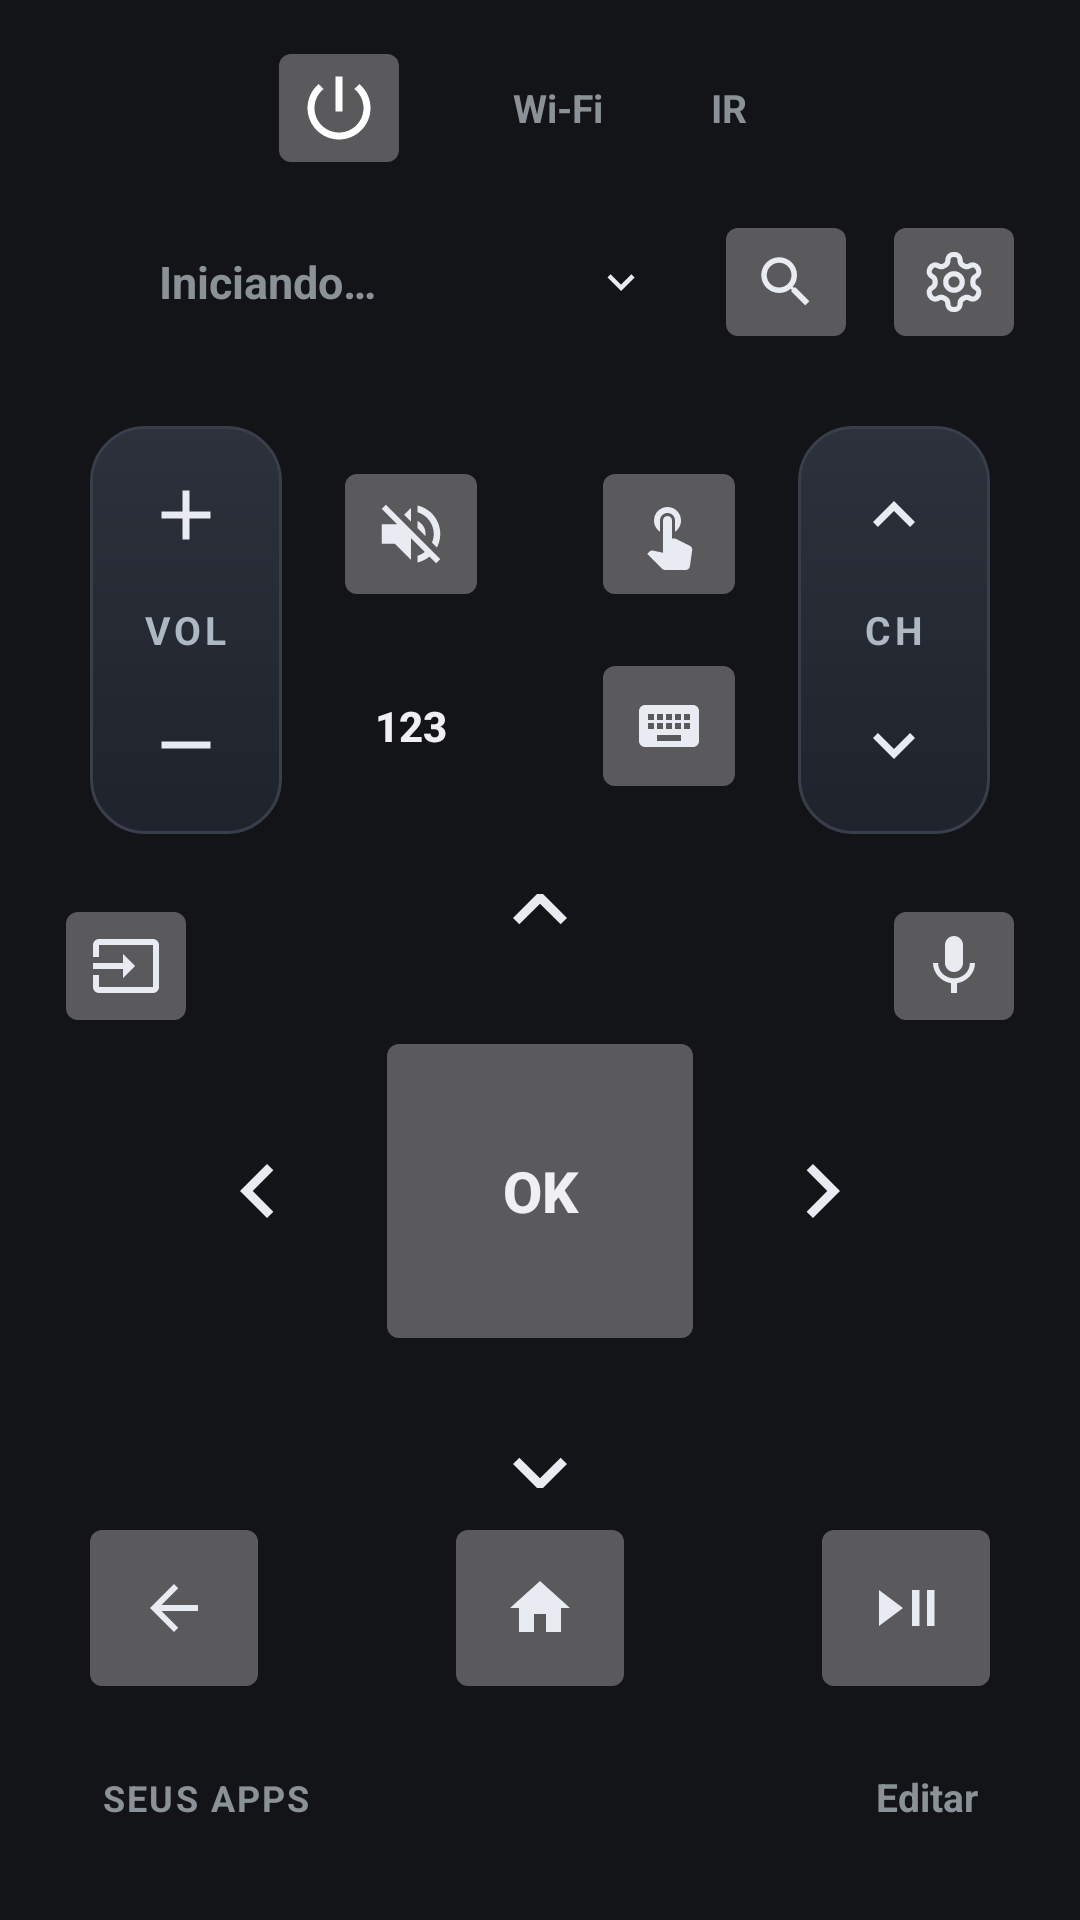

Screen size 1080*1920. Icon name, then its center in pixels as point (x, y):
Aumentar volume: point (186, 514)
Canal anterior: point (894, 745)
chevron down: point (621, 282)
Configurações: point (954, 282)
Diminuir volume: point (186, 745)
Direita: point (823, 1191)
Escrever na TV: point (669, 726)
Esquerda: point (256, 1191)
Fonte de entrada: point (126, 966)
Home: point (540, 1608)
Ligar ou desligar: point (339, 108)
Mudo: point (411, 534)
Pausar ou continuar: point (906, 1608)
Próximo canal: point (894, 514)
Touchpad ou direcional: point (669, 534)
Voltar: point (174, 1608)
Voz. Segure para o assistente da TV: point (954, 966)
